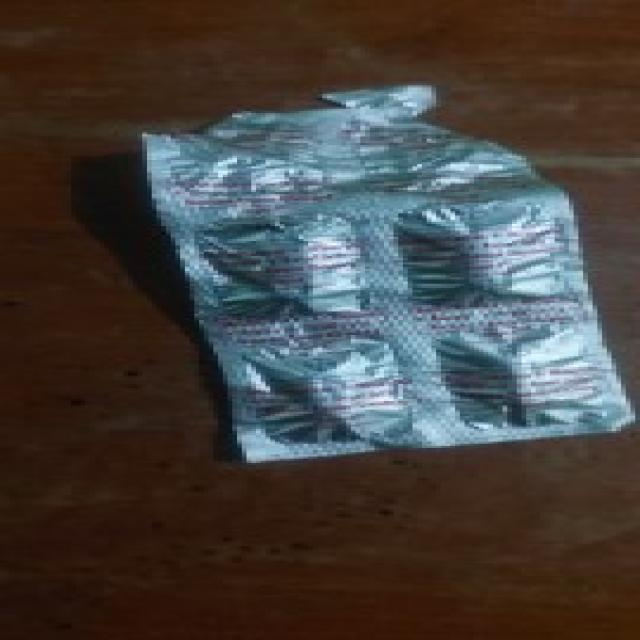Cacat: (137, 47, 640, 465)
Kemasan: (162, 79, 467, 181)
